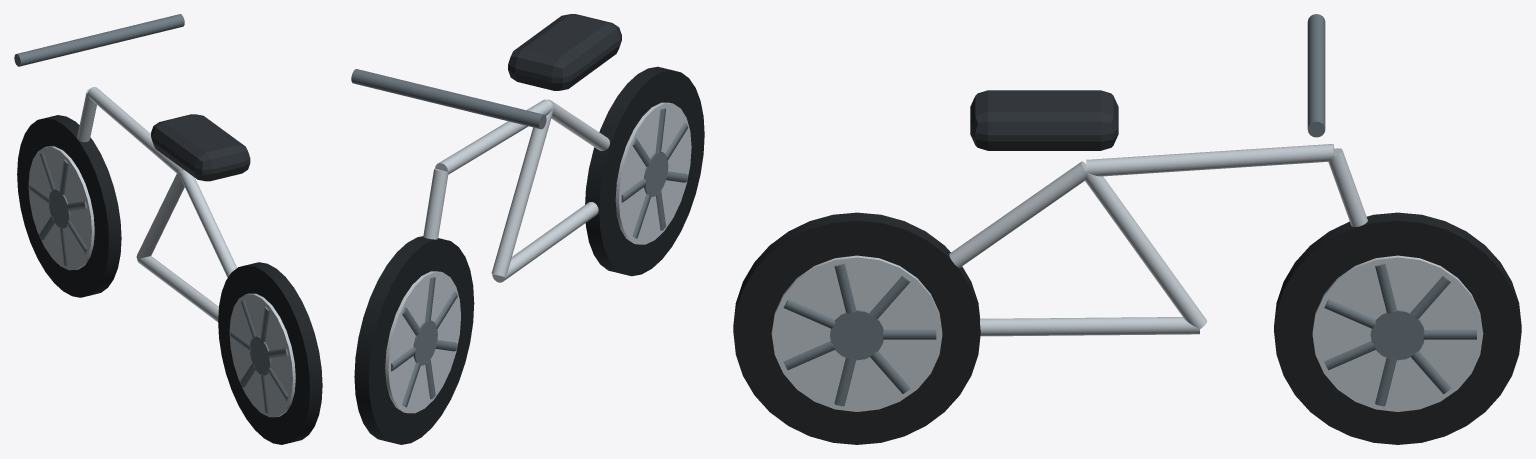
Rendered from Comet_Bicycle.fbx.
The picture shows the model from 3 angles, left to right: view 1: azimuth 30°, elevation 25°; view 2: azimuth 150°, elevation 25°; view 3: azimuth 270°, elevation 25°; orthographic projection. The views are drawn at different scales.
Parts seen in each view (by area): view 1: Wheel_R.001, Wheel_F.001, Body.010; view 2: Wheel_F.001, Wheel_R.001, Body.010; view 3: Wheel_R.001, Wheel_F.001, Body.010.
Part boxes in pixels (<box>): Wheel_R.001: <box>218,262,322,444</box>; Wheel_F.001: <box>17,115,121,297</box>; Body.010: <box>14,14,250,322</box>; Wheel_F.001: <box>354,236,474,444</box>; Wheel_R.001: <box>585,66,704,276</box>; Body.010: <box>351,14,621,282</box>; Wheel_R.001: <box>733,212,980,444</box>; Wheel_F.001: <box>1274,212,1521,444</box>; Body.010: <box>949,14,1367,336</box>.
Size of the model in its own units: 0.72 by 1.16 by 2.23.
